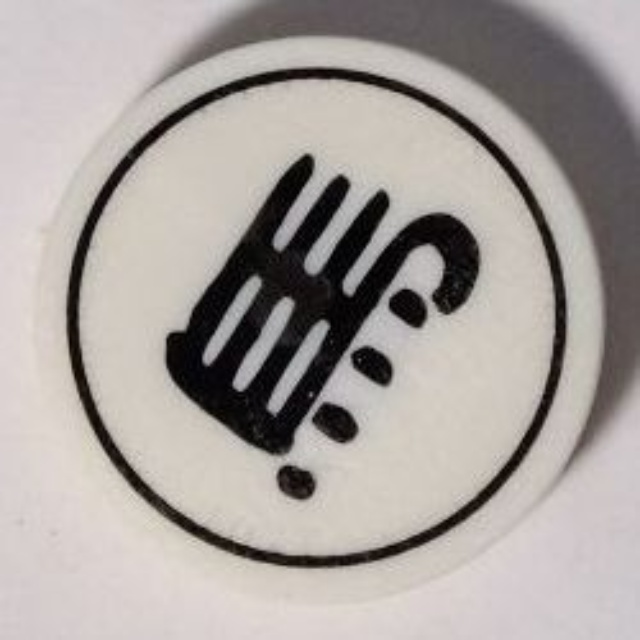black_ma: (45, 32, 619, 595)
